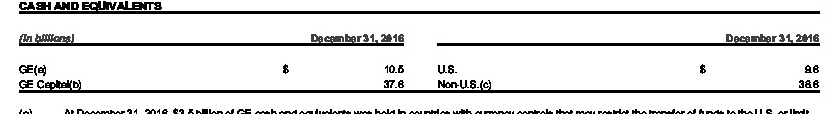table: (0, 0, 837, 114)
